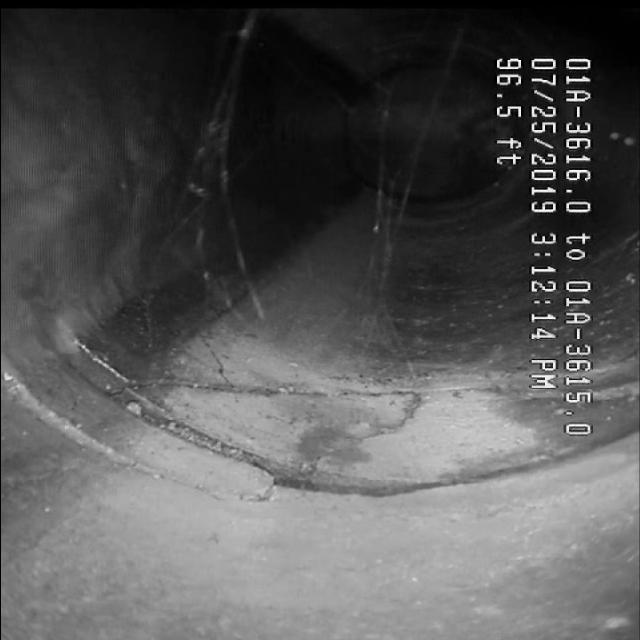Fracture: (100, 344, 460, 494)
